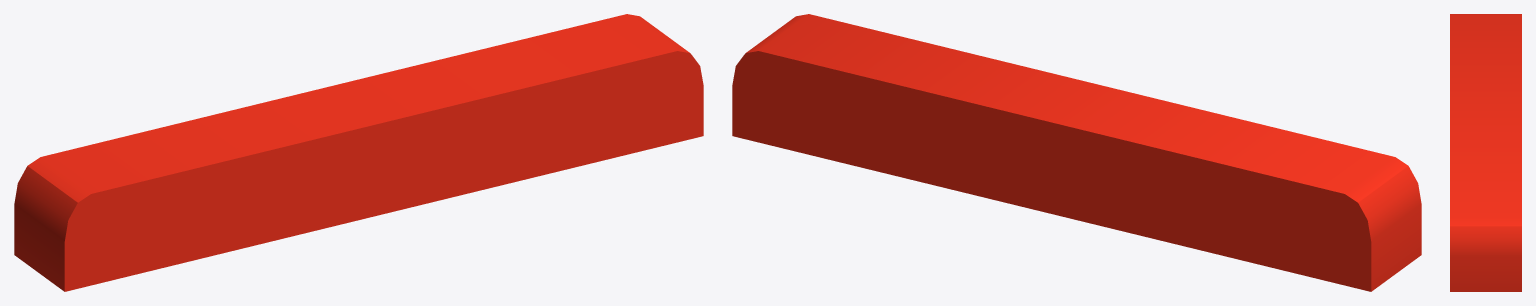
The model's file is Barrier A.fbx.
3 views of the same model, side by side, from view 1: azimuth 30°, elevation 25°; view 2: azimuth 150°, elevation 25°; view 3: azimuth 270°, elevation 25° (orthographic). The views are drawn at different scales.
Parts seen in each view (by area): view 1: Barrier A; view 2: Barrier A; view 3: Barrier A.
Part boxes in pixels (x1,y1,x2,y2): Barrier A: (14, 14, 703, 291); Barrier A: (732, 14, 1421, 291); Barrier A: (1450, 14, 1521, 291).
Size of the model in its own units: 2.2 by 0.3014 by 0.3014.
